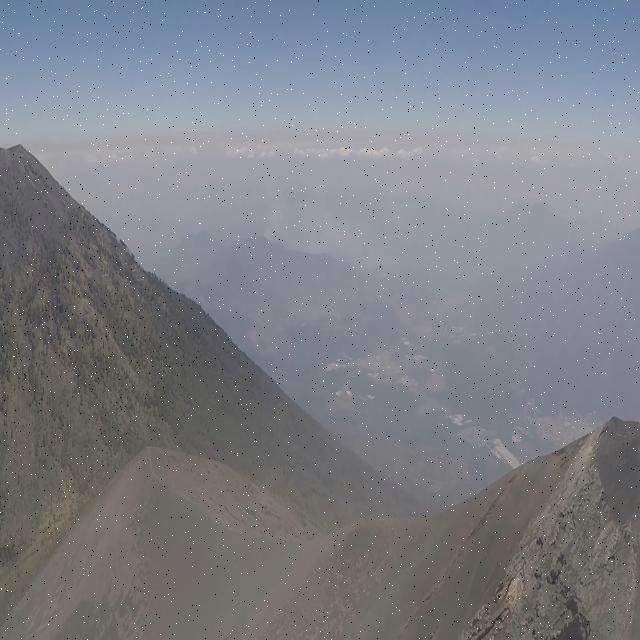Summit: (400, 405, 640, 640)
